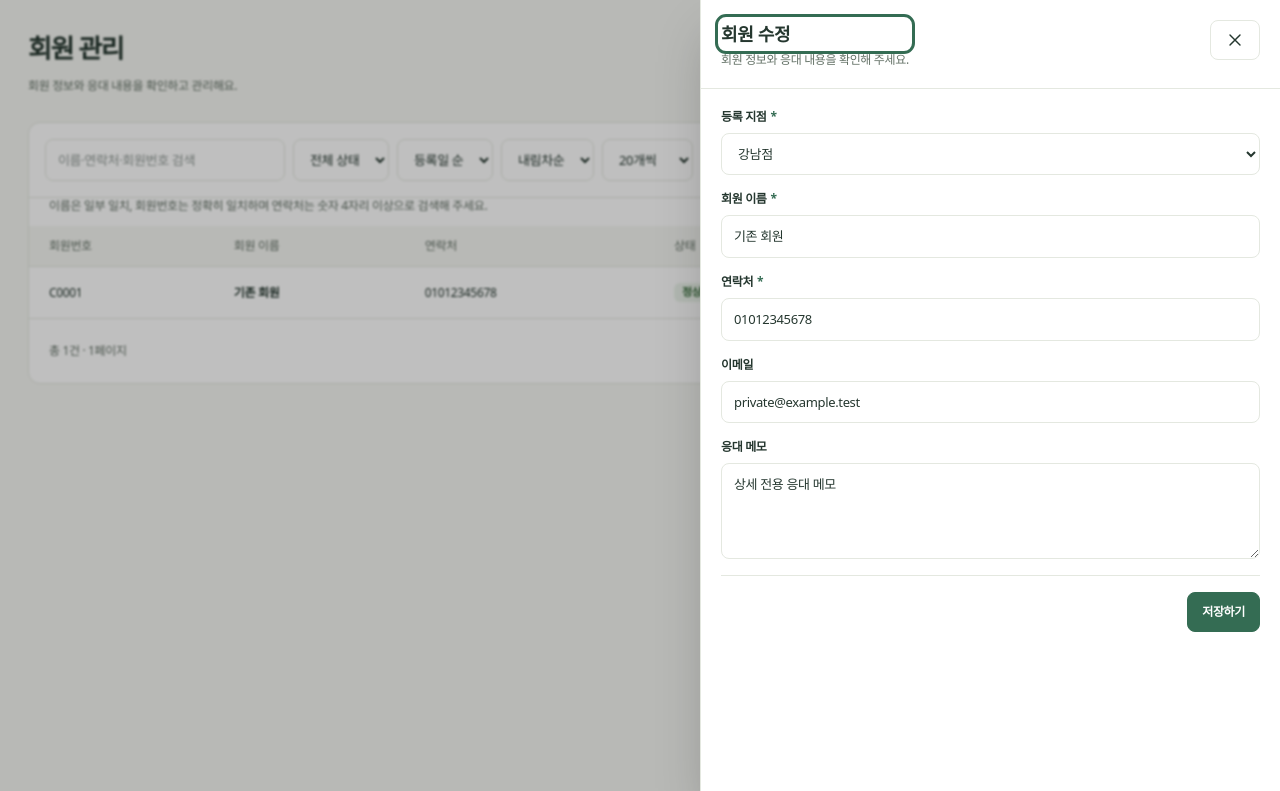
Test: keeps the conflict blocked after latest lookup fails and permits another lookup
The image size is (1280, 791).
Type " 수정" into the field labelled "회원 이름".
click(990, 236); type(" 수정")  # box [721,215,1260,258]
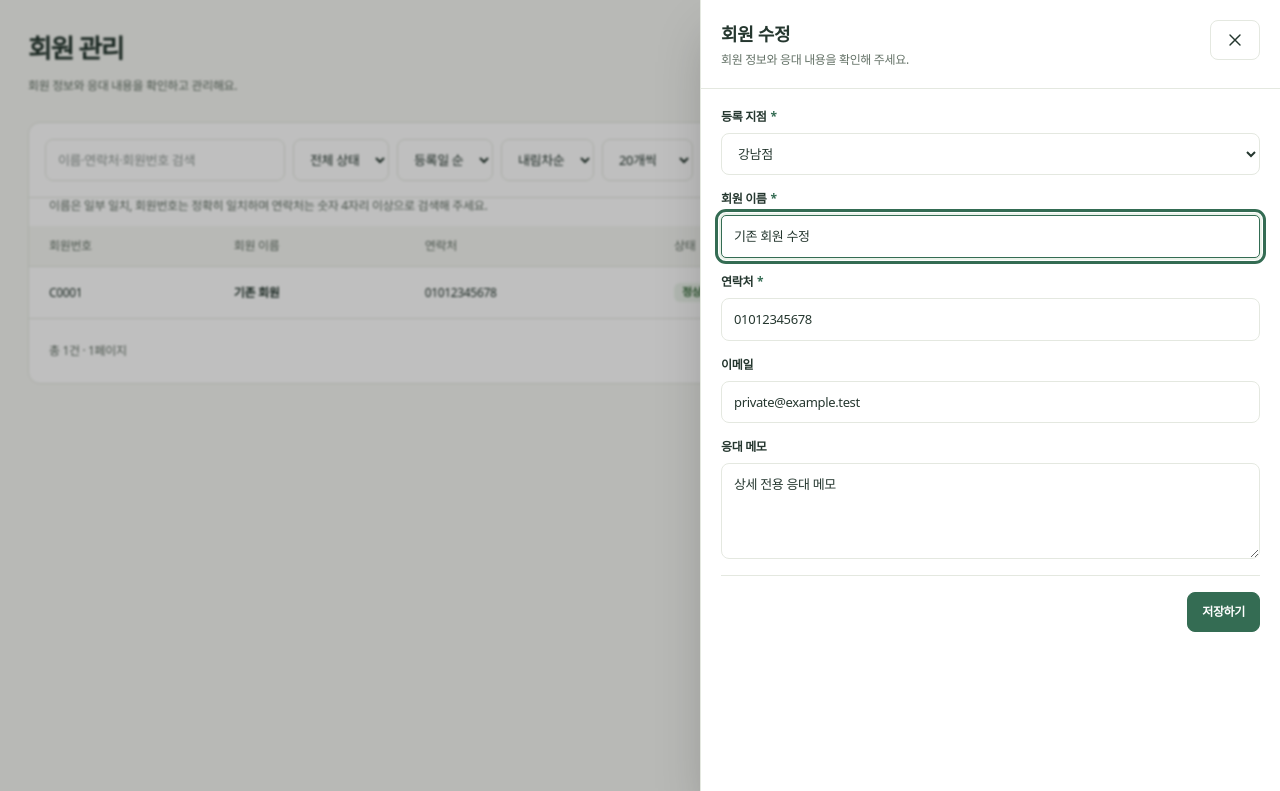
Click the button "저장하기".
click(1224, 612)  # box [1187,592,1260,632]
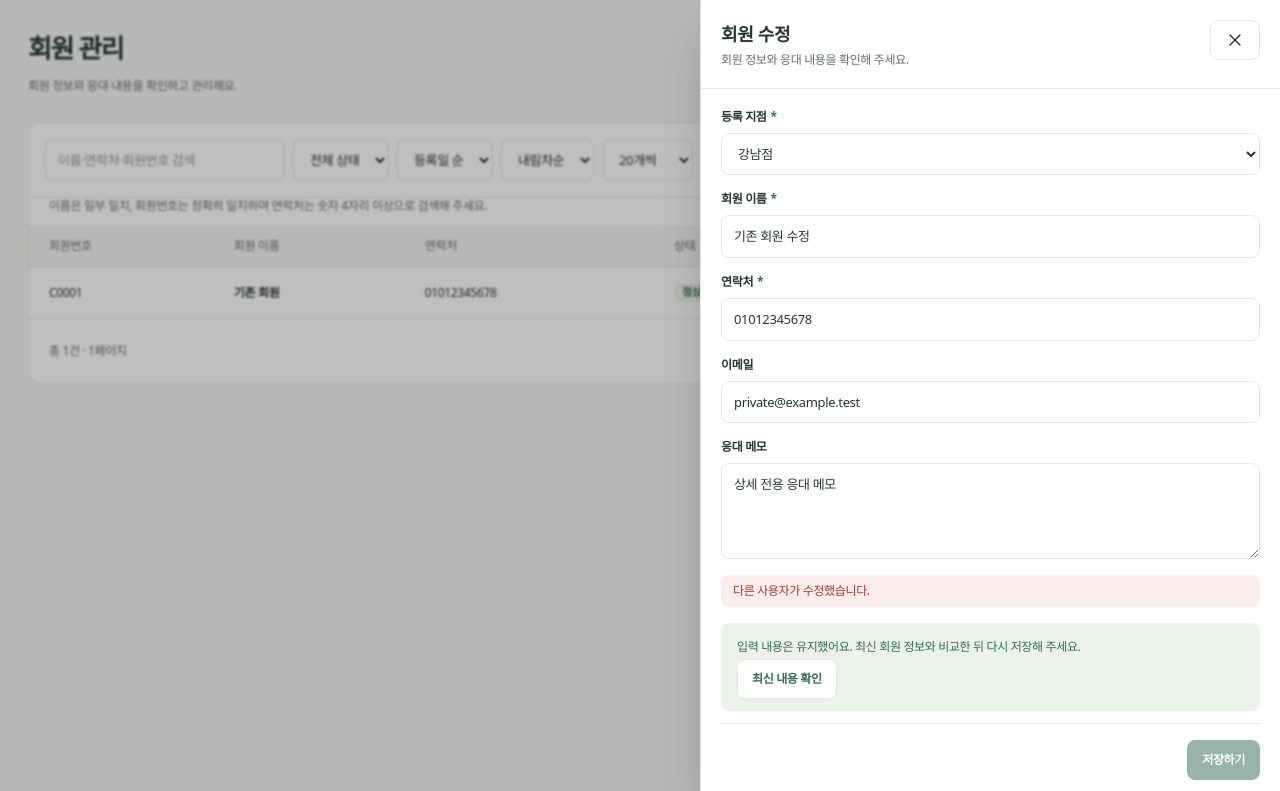
Result: the text "다른 사용자가 수정했습니다." is shown at [721,575,1260,607]
Click the button "최신 내용 확인".
click(787, 679)  # box [737,659,837,699]
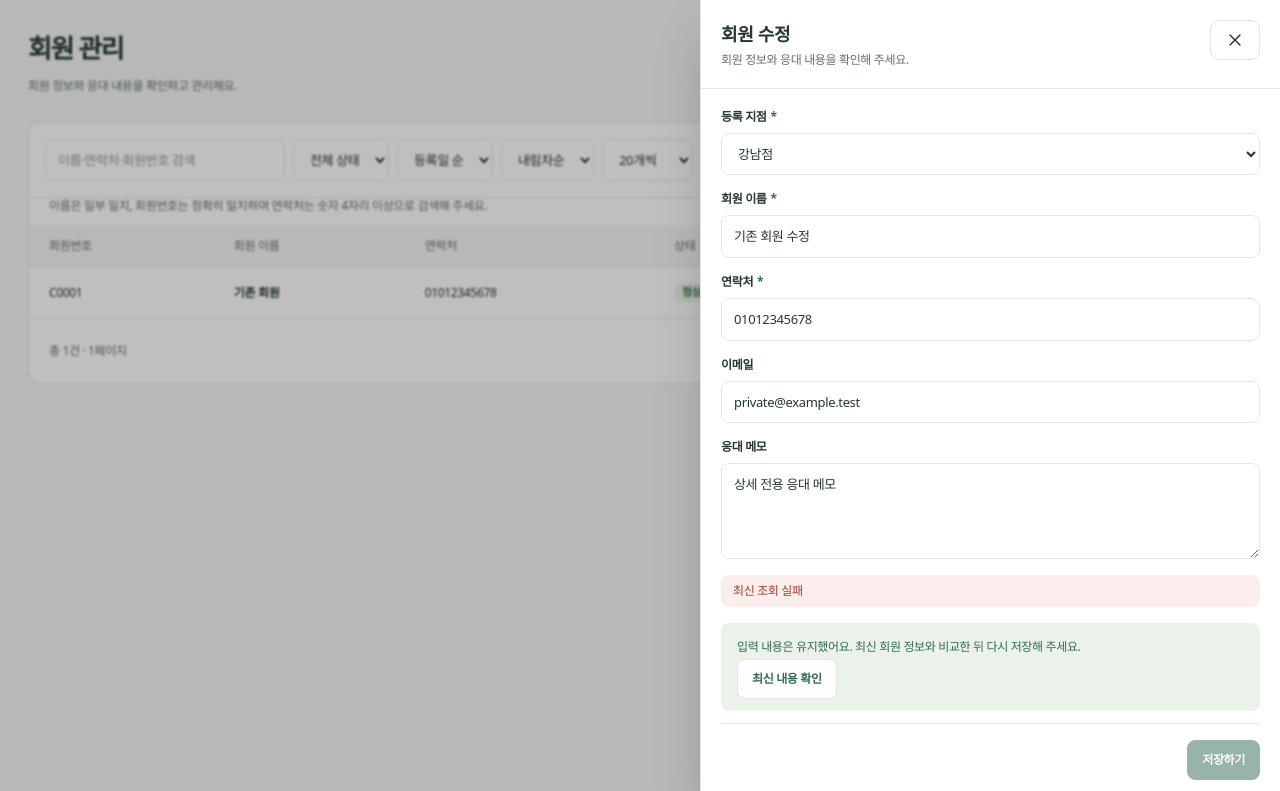
Result: the button "저장하기" is disabled at [1187,740,1260,780]
Result: the field labelled "회원 이름" holds "기존 회원 수정" at [721,215,1260,258]
Result: the text "최신 조회 실패" is shown at [721,575,1260,607]
Click the button "최신 내용 확인".
click(787, 679)  # box [737,659,837,699]
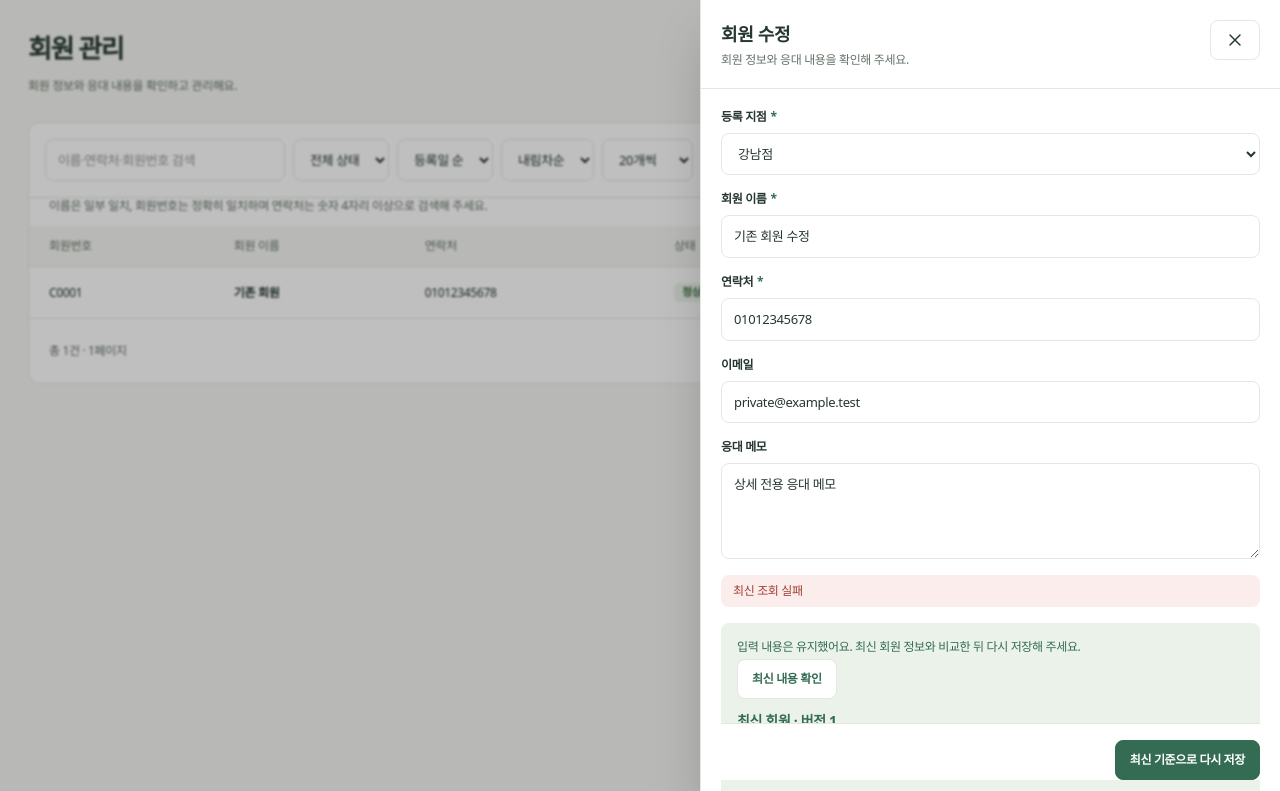
Result: the heading "최신 회원 · 버전 1" is shown at [737,711,837,730]
Result: the button "최신 기준으로 다시 저장" is enabled at [1115,740,1260,780]
